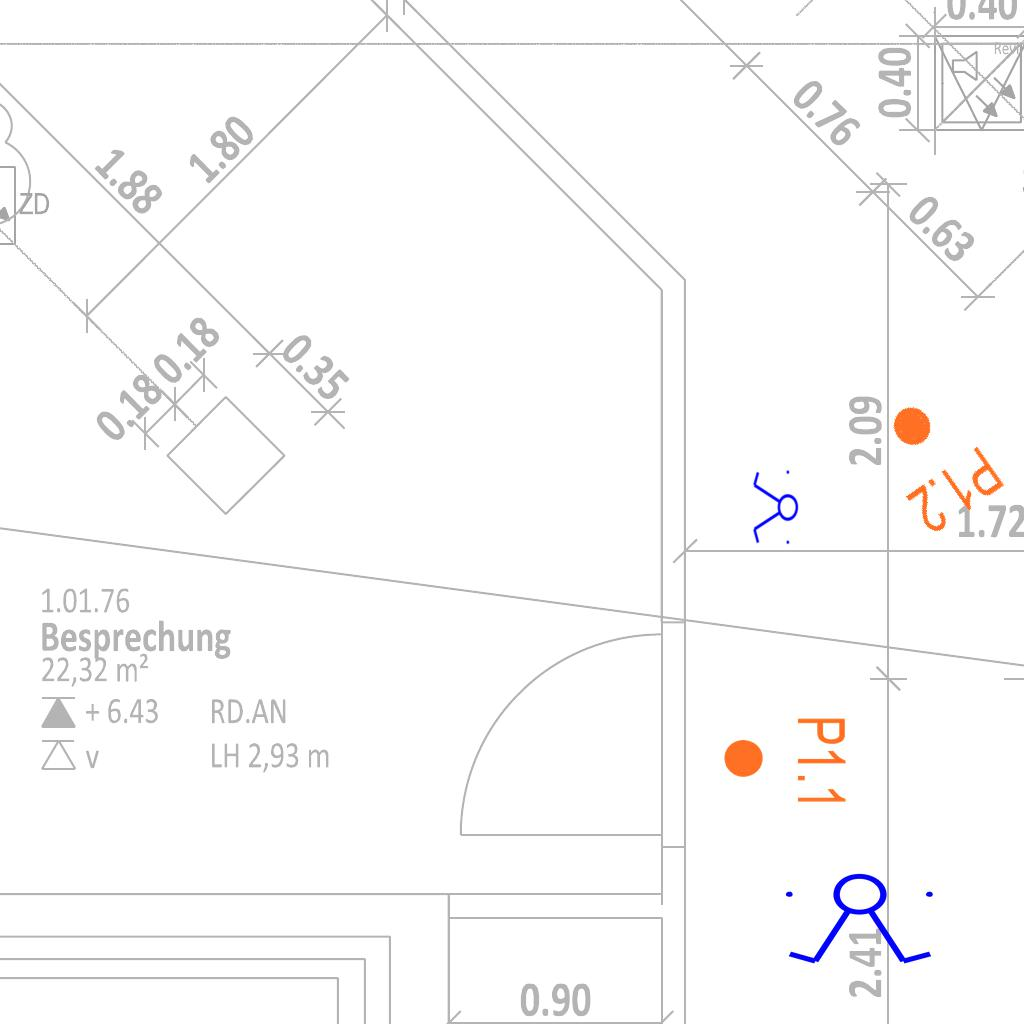Downlight_LED_Einbauleuchten_Flur: (859, 381, 1010, 541), (721, 715, 849, 808)
Serienschalter: (777, 872, 945, 968), (751, 466, 799, 550)
